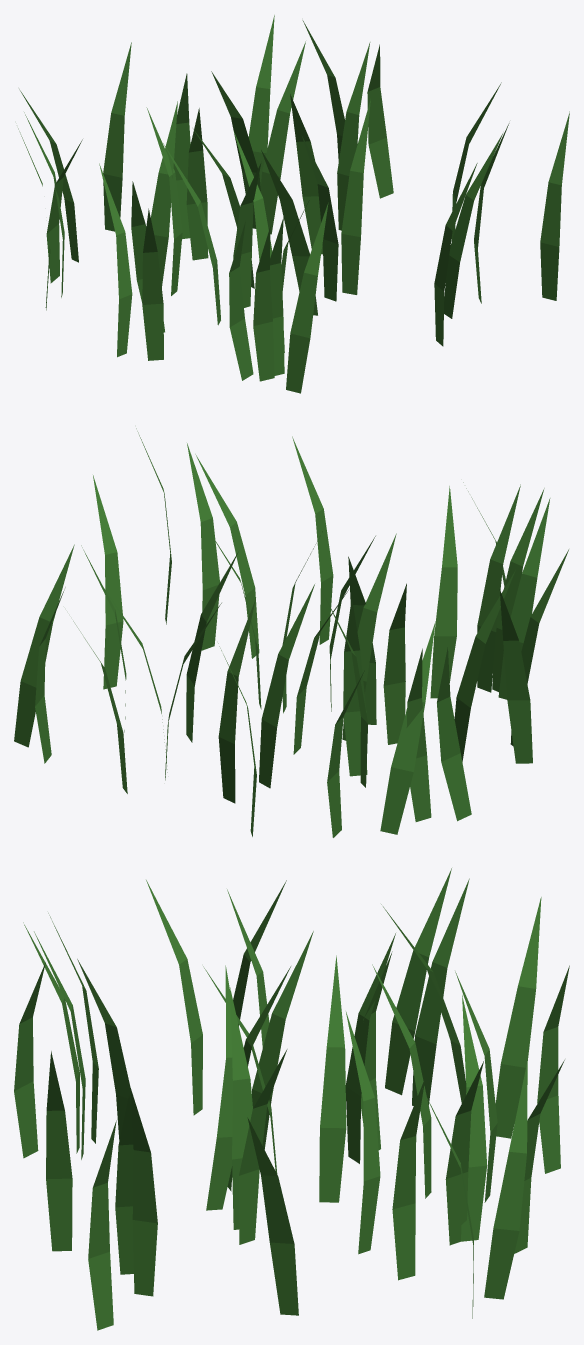
The model's file is SM_Plant_02.fbx.
The picture shows the model from 3 angles, top to bottom: view 1: azimuth 30°, elevation 25°; view 2: azimuth 150°, elevation 25°; view 3: azimuth 270°, elevation 25°; orthographic projection. The views are drawn at different scales.
Visible parts, largest first — view 1: Grass; view 2: Grass; view 3: Grass.
Boxes of the visible parts, <box> form: Grass: <box>18,15,569,393</box>; Grass: <box>14,428,568,837</box>; Grass: <box>14,868,569,1330</box>.
Size of the model in its own units: 111 by 45.94 by 102.
